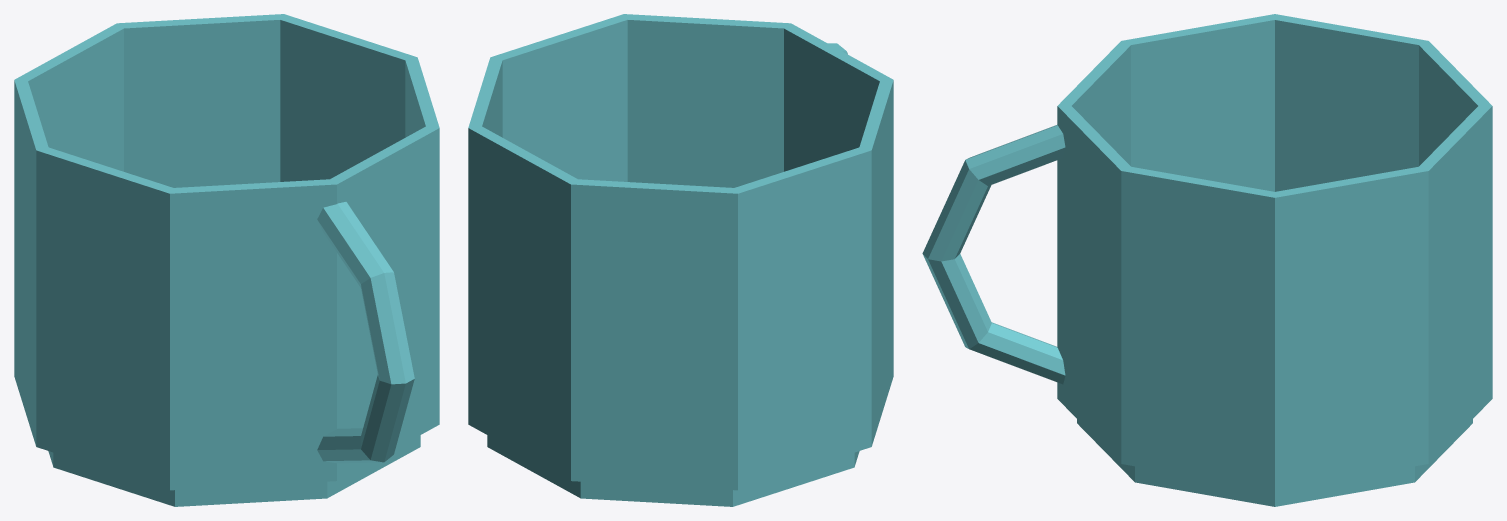
The model's file is caneca.fbx.
3 views of the same model, side by side, from view 1: azimuth 30°, elevation 25°; view 2: azimuth 150°, elevation 25°; view 3: azimuth 270°, elevation 25° (orthographic).
Visible parts, largest first — view 1: pCylinder37; view 2: pCylinder37; view 3: pCylinder37.
Boxes of the visible parts, x1,y1,x2,y2 form: pCylinder37: (14, 14, 439, 506); pCylinder37: (468, 14, 893, 506); pCylinder37: (922, 14, 1492, 506).
Bounding box in the file's own units: 0.1675 × 0.1349 × 0.2195.
